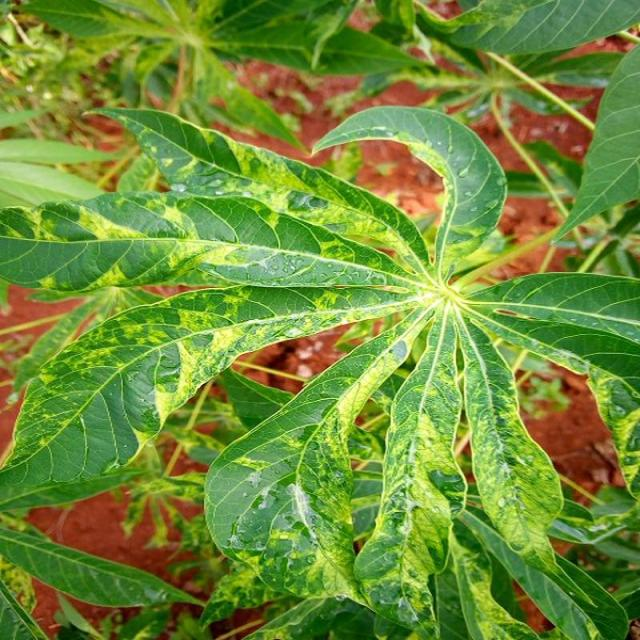cassava leaf: (0, 100, 638, 638)
